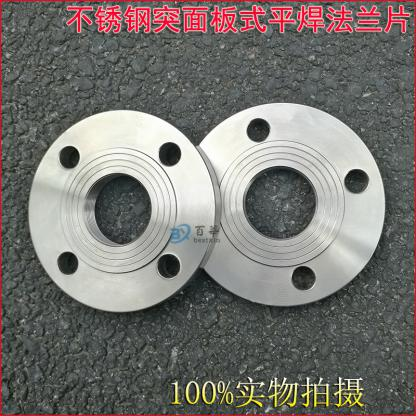FOD: (175, 96, 392, 312), (25, 104, 226, 319)
